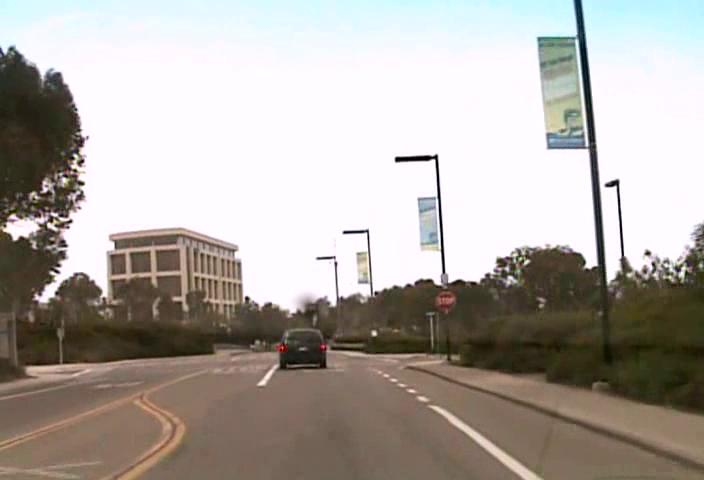stop: (434, 290, 456, 311)
